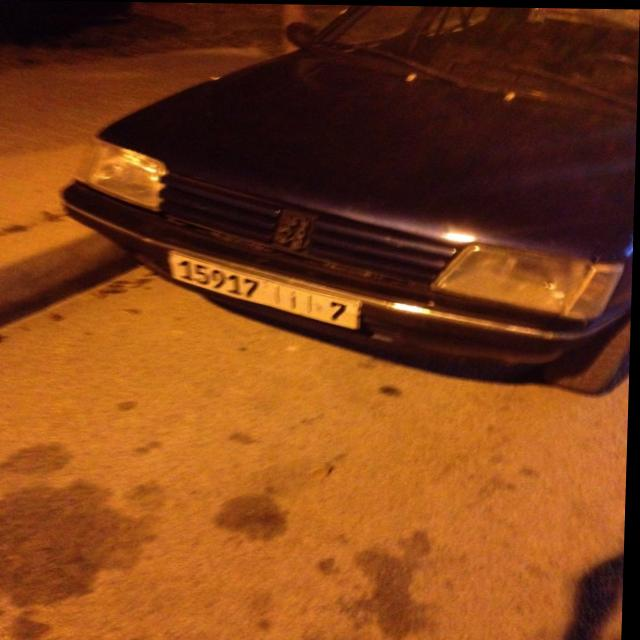License-Plate: (169, 251, 365, 328)
